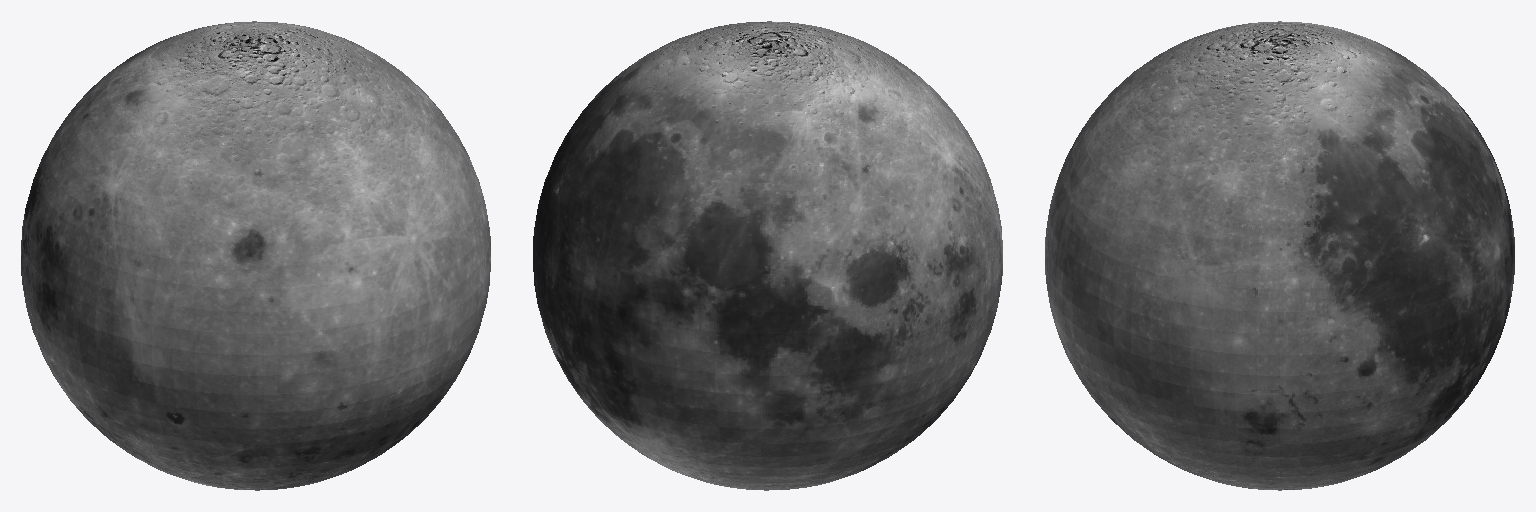
3 views of the same model, side by side, from view 1: azimuth 30°, elevation 25°; view 2: azimuth 150°, elevation 25°; view 3: azimuth 270°, elevation 25° (orthographic).
Visible parts, largest first — view 1: Sphere; view 2: Sphere; view 3: Sphere.
Part boxes in pixels (bbox=[...]): Sphere: bbox=[21, 21, 490, 490]; Sphere: bbox=[533, 21, 1002, 490]; Sphere: bbox=[1045, 21, 1514, 490].
Size of the model in its own units: 3.48 by 3.48 by 3.48.
1 materials, 1 textured.